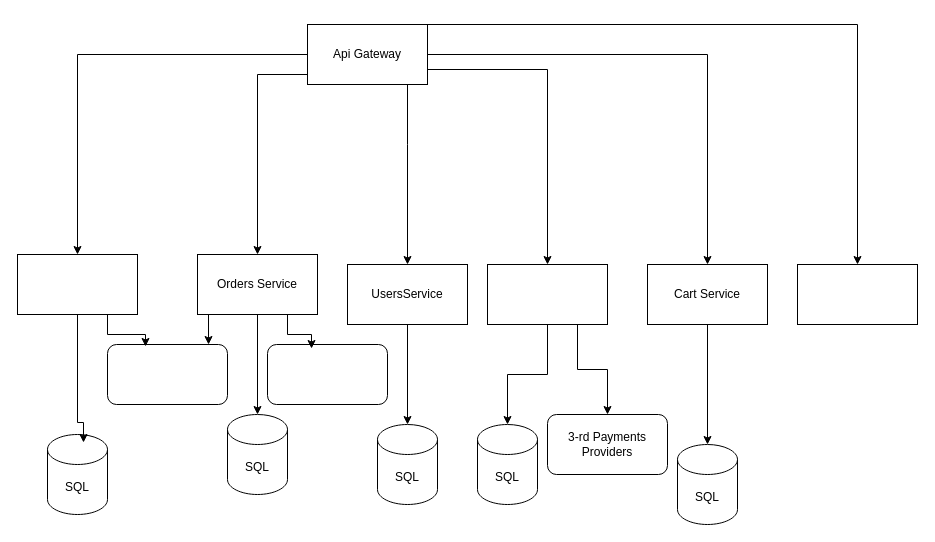
The diagram is 935 pixels wide and 542 high, and some of its shapes have lost their labels. The shapes that lost their labels are listed below. From the top down, each one's box as (x1, y1, x2, y2) in pixels, then its label:
(16, 254, 138, 314): Products Service
(486, 264, 608, 324): PaymentService
(796, 264, 918, 324): Notification Service
(106, 344, 228, 404): ElasticSearch
(266, 344, 388, 404): RabbitMQ
